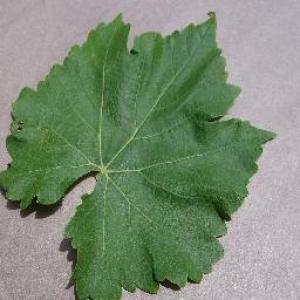Folha: (0, 9, 277, 299)
